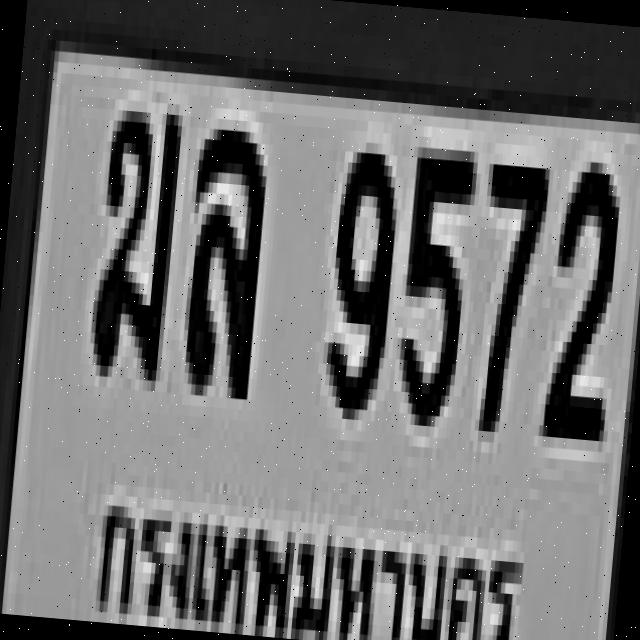15KhorRaKhang: (84, 98, 180, 370)
2: (537, 148, 621, 430)
45LorLing: (176, 117, 266, 388)
5: (390, 135, 474, 417)
7: (466, 153, 546, 423)
9: (318, 140, 398, 410)
Bangkok: (80, 463, 544, 640)
